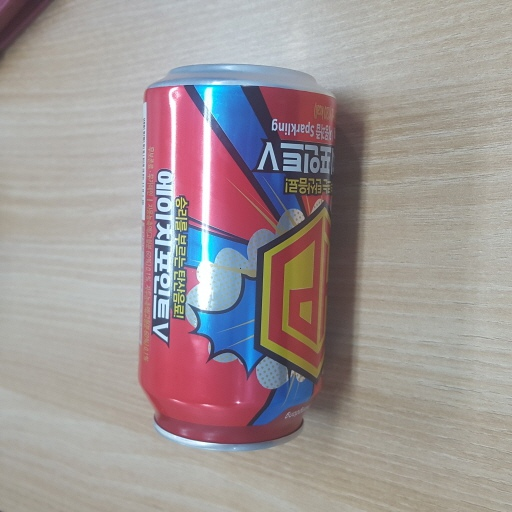Metal_0: (134, 66, 337, 450)
